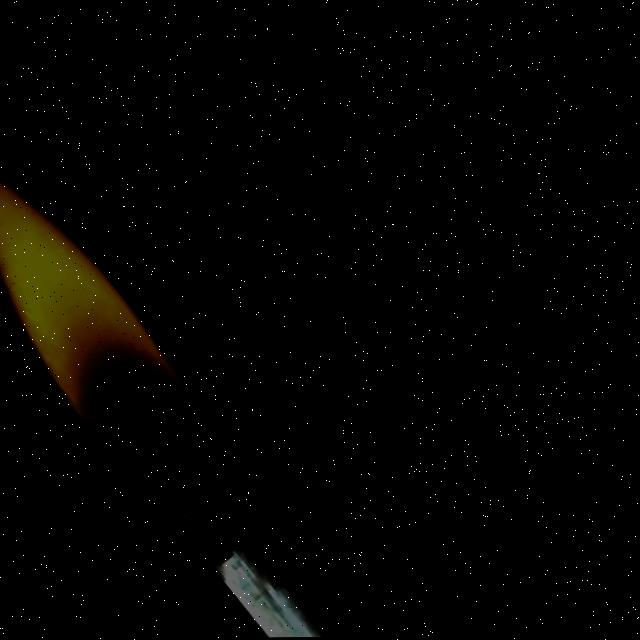Fire: (0, 147, 271, 527)
